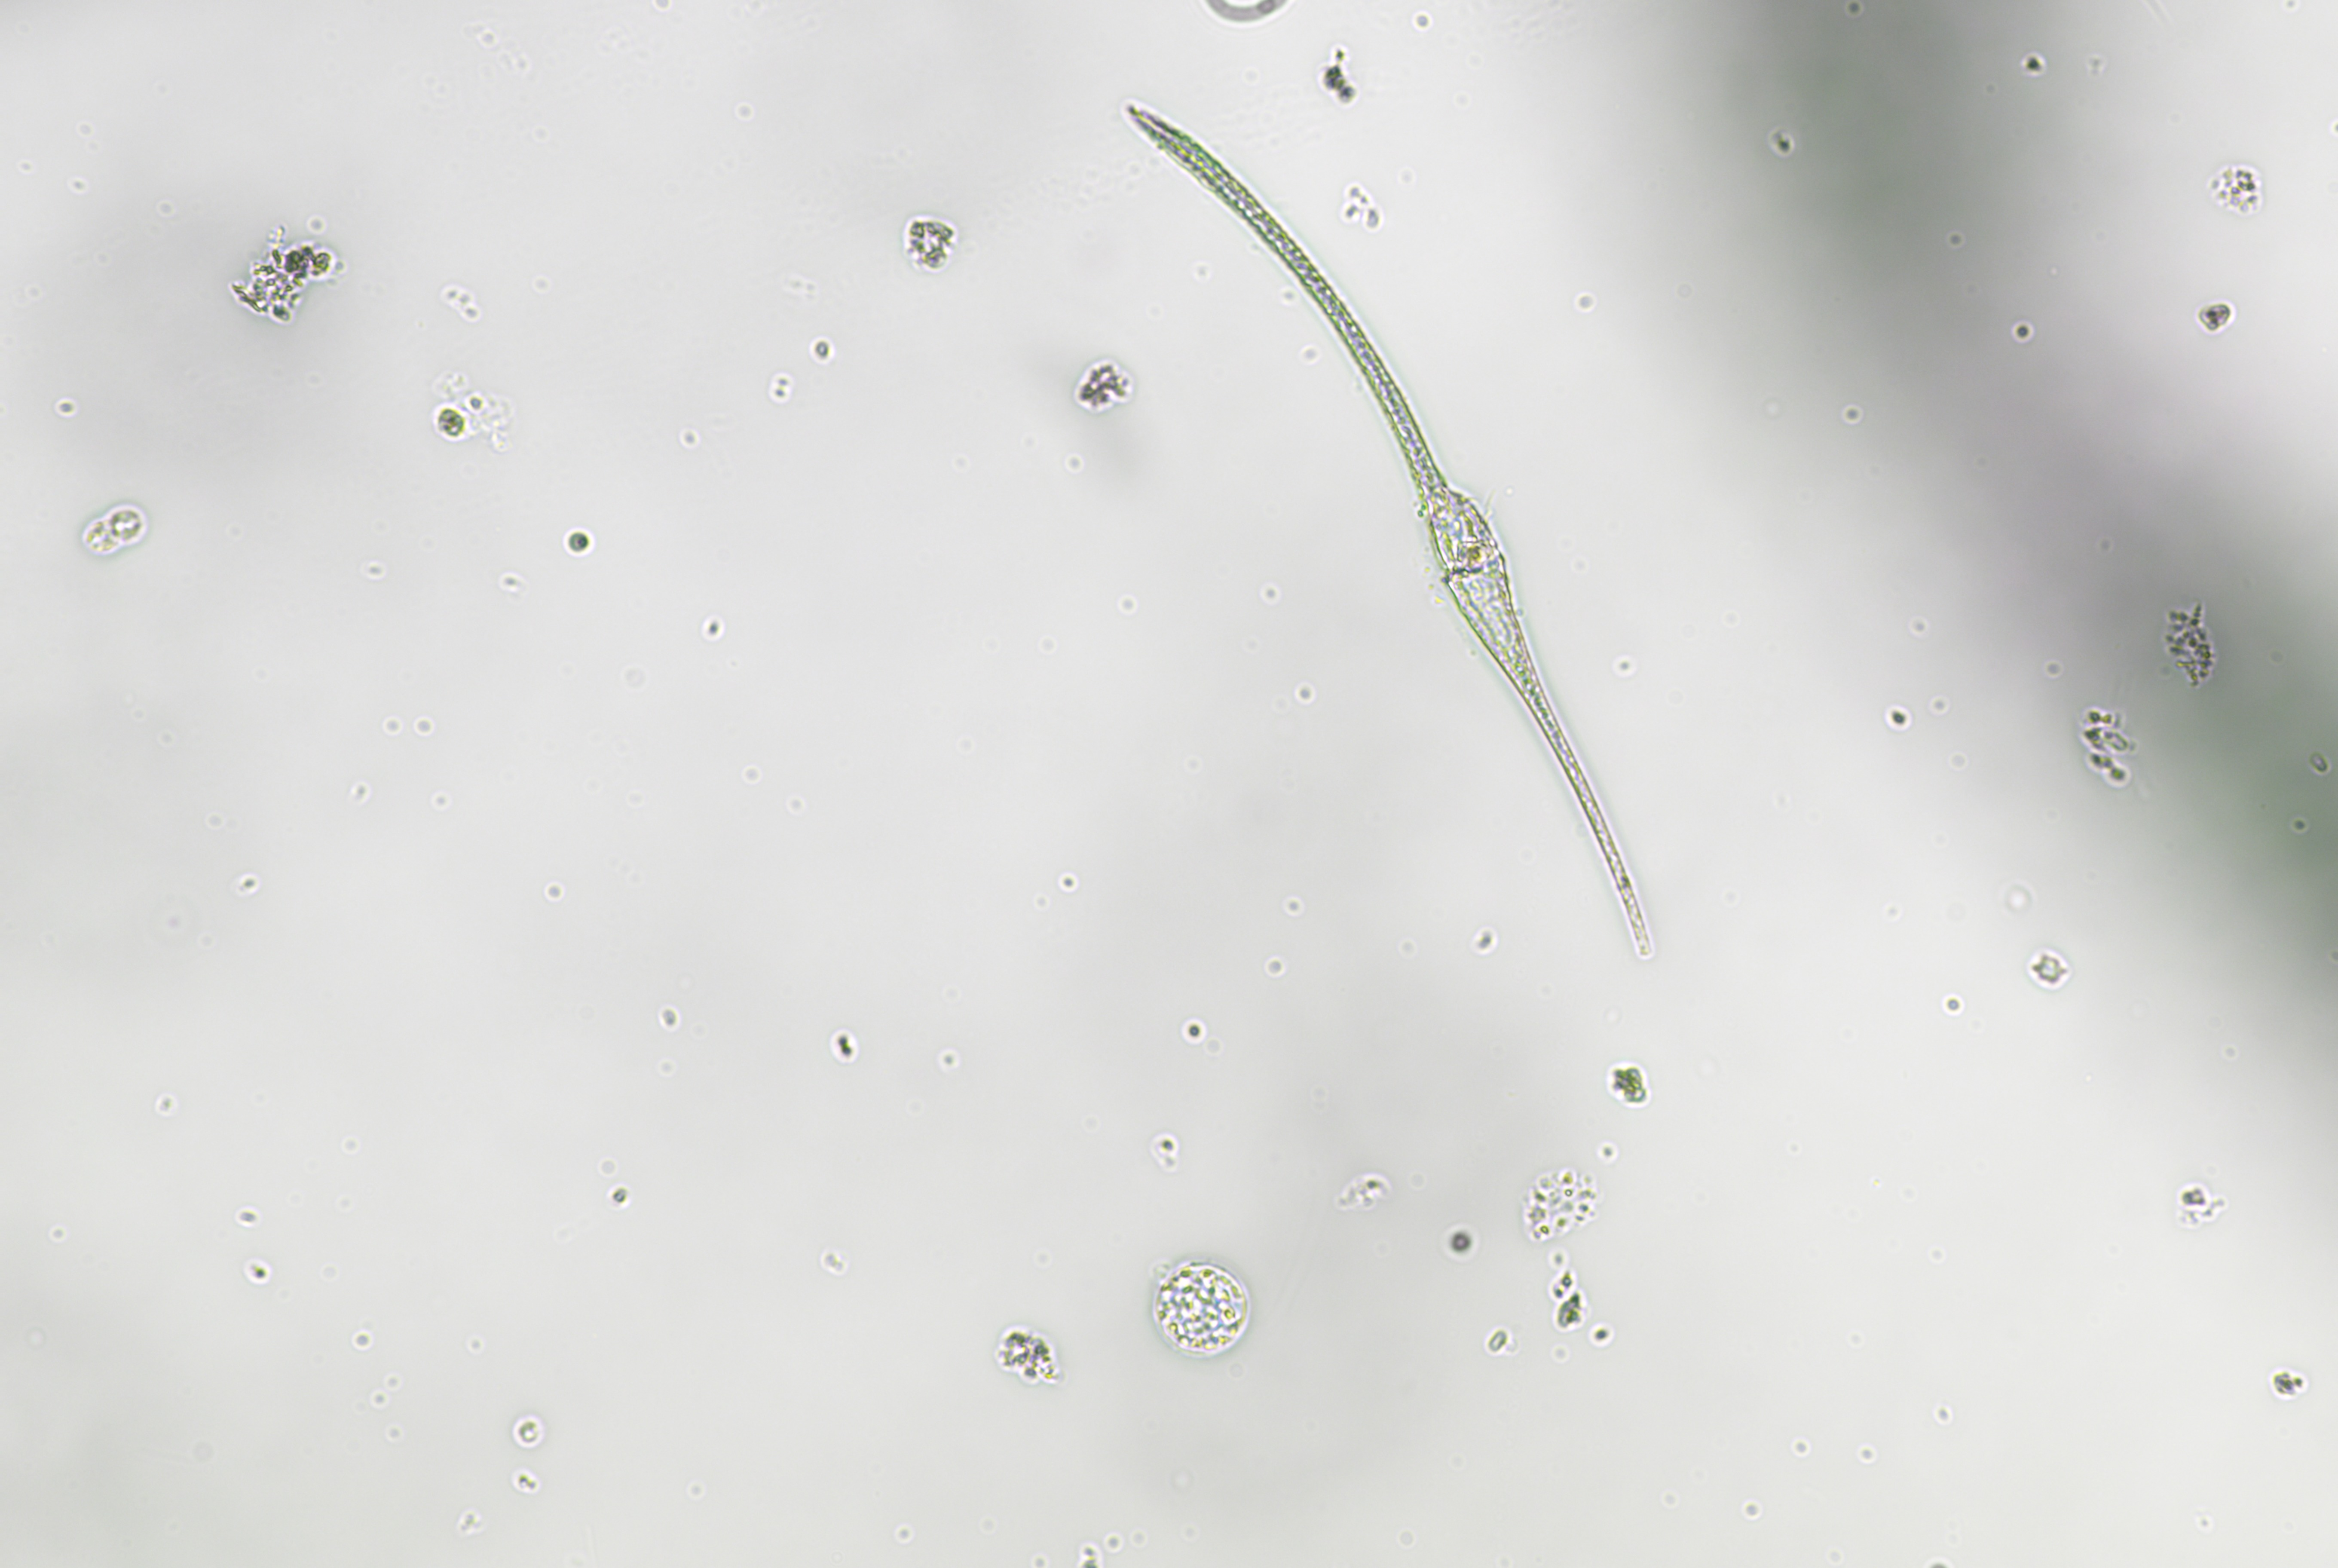ceratium fusus: (1113, 93, 1659, 964)
